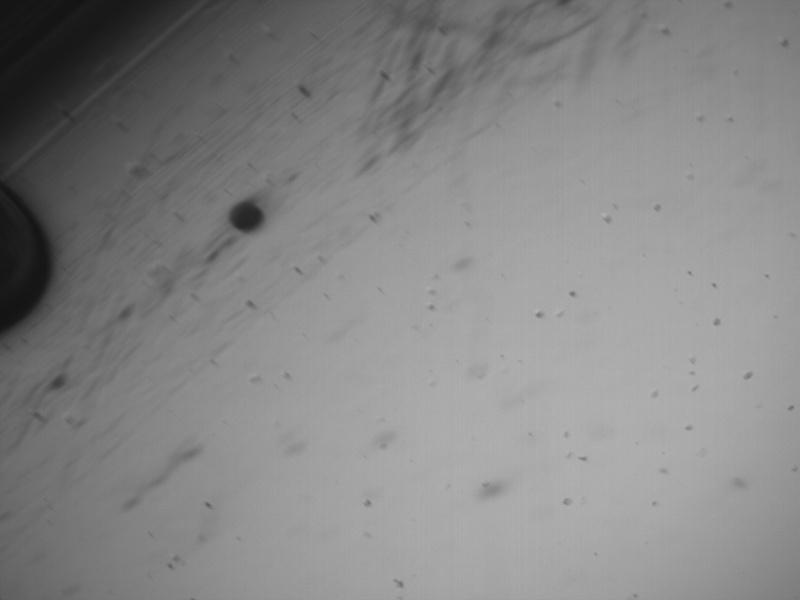bead: (1, 175, 52, 339), (229, 199, 266, 234)
